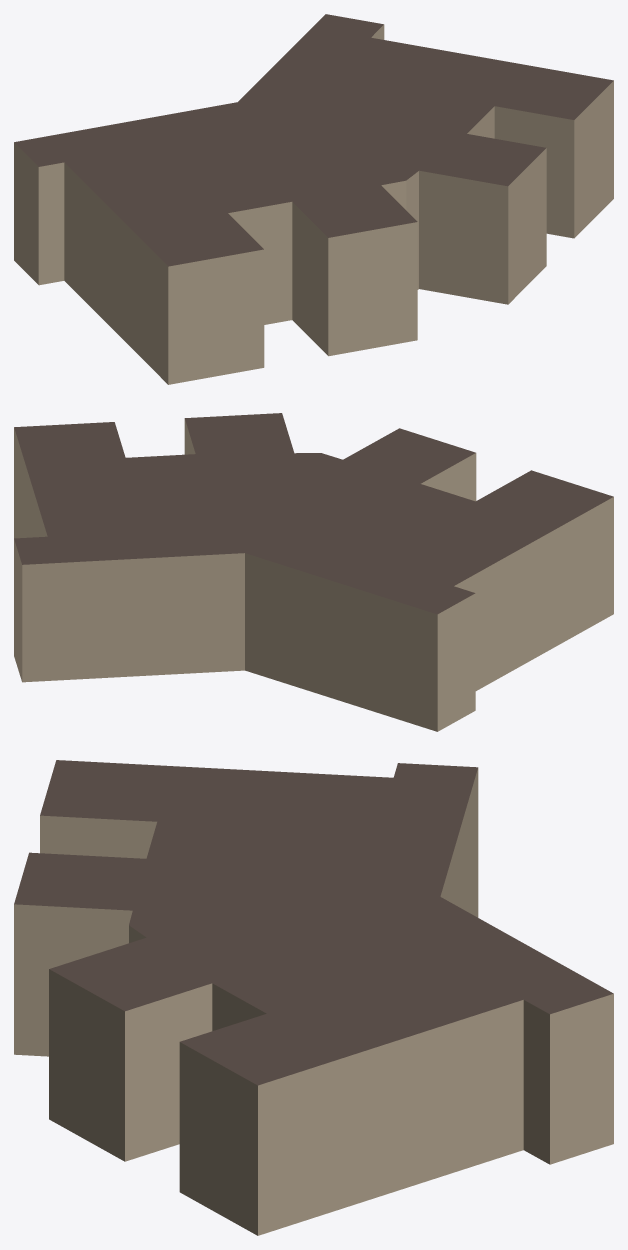
3 renders of one model, top to bottom at view 1: azimuth 30°, elevation 25°; view 2: azimuth 150°, elevation 25°; view 3: azimuth 270°, elevation 25°, orthographic. The views are drawn at different scales.
Visible parts, largest first — view 1: HP-w859488890; view 2: HP-w859488890; view 3: HP-w859488890.
Boxes of the visible parts, box(x1,y1,x2,y2) form: HP-w859488890: box(14, 14, 613, 384); HP-w859488890: box(14, 413, 613, 731); HP-w859488890: box(14, 760, 613, 1235).
Bounding box in the file's own units: 41.78 × 9 × 32.54.
